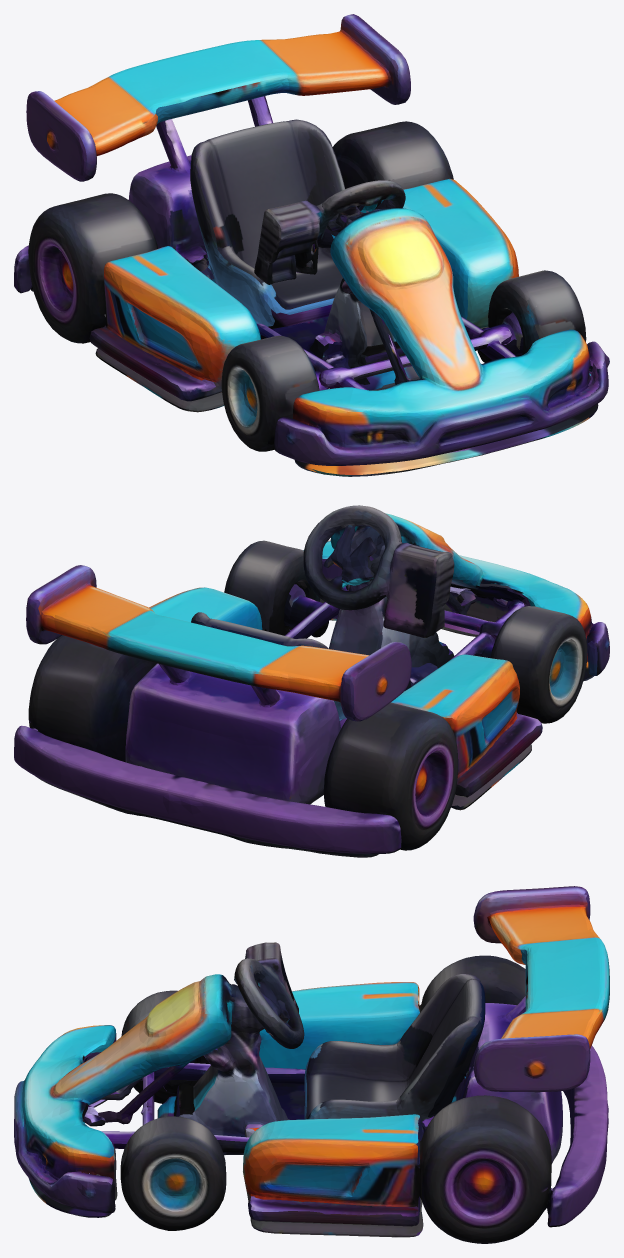
The model's file is kart_sport.glb.
3 views of the same model, one above another, from view 1: azimuth 30°, elevation 25°; view 2: azimuth 150°, elevation 25°; view 3: azimuth 270°, elevation 25° (orthographic). The views are drawn at different scales.
Visible parts, largest first — view 1: temp_mesh.ply; view 2: temp_mesh.ply; view 3: temp_mesh.ply.
Boxes of the visible parts, box(x1,y1,x2,y2) form: temp_mesh.ply: box(14, 14, 609, 476); temp_mesh.ply: box(14, 505, 609, 857); temp_mesh.ply: box(14, 886, 609, 1243).
Bounding box in the file's own units: 1.42 × 0.7293 × 1.97.
Materials: 1 (1 with a texture image).
